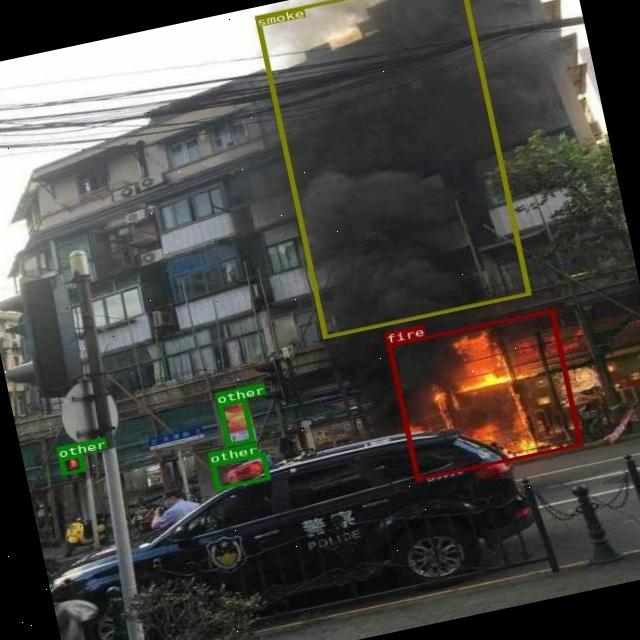fire: (386, 308, 582, 480)
smoke: (253, 0, 530, 338)
